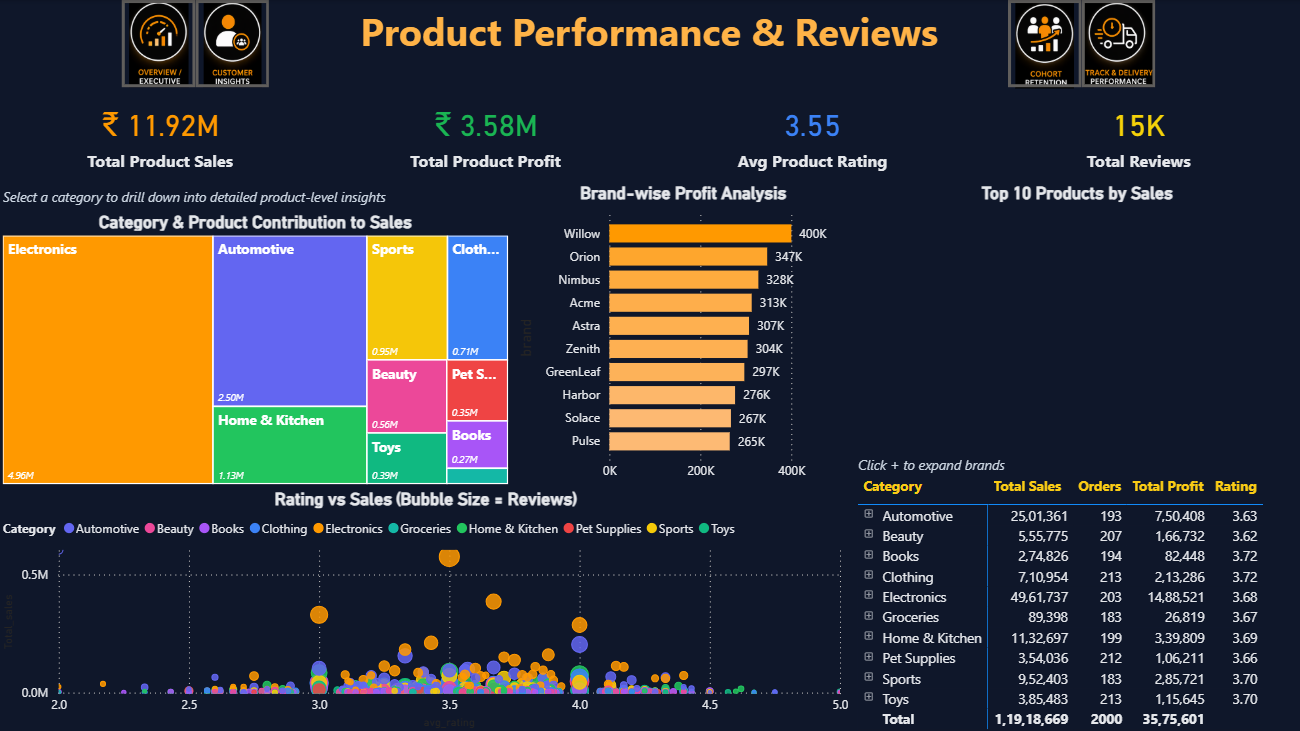

This screenshot's page, from the dashboard's own definition file:
{"tool":"powerbi","page":{"name":"PRODUCT INSIGHTS","canvas":[1280,720],"ordinal":2},"visuals":[{"type":"textbox","box":[346.2,0,586.3,77.2],"z":0},{"type":"card","fields":{"Values":["All Measures Table.Total Product Sales"]},"box":[0,86.9,318.5,91.7],"z":1000},{"type":"card","fields":{"Values":["All Measures Table.Total Product Profit"]},"box":[318.5,86.9,319.7,91.7],"z":2000},{"type":"card","fields":{"Values":["All Measures Table.Avg Product Rating"]},"box":[639.4,86.9,320.9,91.7],"z":3000},{"type":"card","fields":{"Values":["All Measures Table.Total Reviews"]},"box":[959.1,86.9,320.9,91.7],"z":4000},{"type":"treemap","title":"Category & Product Contribution to Sales","fields":{"Group":["dim_product.category","dim_product.product_name"],"Values":["Sum(dim_product.total_sales)"]},"box":[0,207.5,505.5,272.7],"z":5000},{"type":"textbox","box":[0,178.6,505.5,29],"z":6000},{"type":"clusteredBarChart","title":"Brand-wise Profit Analysis","fields":{"Category":["dim_product.brand"],"Y":["Sum(dim_product.total_profit)"]},"box":[505.5,178.6,334.2,301.6],"z":7000},{"type":"scatterChart","title":"Rating vs Sales (Bubble Size = Reviews)","fields":{"Series":["dim_product.category"],"Size":["Sum(review_summary.total_reviews)"],"X":["review_summary.avg_rating"],"Y":["dim_product.total_sales"]},"box":[0,480.2,839.7,240.1],"z":8000},{"type":"pivotTable","fields":{"Rows":["dim_product.category","dim_product.brand"],"Values":["Sum(dim_product.total_sales)","CountNonNull(dim_product.total_quantity)","Sum(dim_product.total_profit)","Avg(dim_product.rating)"]},"box":[839.7,460.9,440.4,259.4],"z":9000},{"type":"textbox","box":[839.7,441.6,440.4,29],"z":10000},{"type":"lollipopChart50393786178B4137A75F3257CB590B96","title":"Top 10 Products by Sales ","fields":{"category":["dim_product.product_name"],"measure":["Sum(dim_product.total_sales)"],"sort":["Max(dim_product.total_sales)"],"tooltip":["Sum(dim_product.total_profit)","Avg(dim_product.rating)"]},"box":[839.7,178.6,440.4,263],"z":11000},{"type":"image","box":[121.9,0,72.4,85.7],"z":12000},{"type":"image","box":[194.2,0,72.4,85.7],"z":13000},{"type":"image","box":[991.7,1.2,72.4,85.7],"z":14000},{"type":"image","box":[1064.1,0,72,85.7],"z":15000},{"type":"actionButton","box":[121.9,0,72.4,85.7],"z":16000},{"type":"actionButton","box":[194.2,0,72.4,85.7],"z":17000},{"type":"actionButton","box":[1064.1,0,72.4,85.7],"z":18000},{"type":"actionButton","box":[991.7,0,72.4,85.7],"z":19000}]}

Visuals, with their boxes in screenshot pixels (x1, y1, x2, y2), scaled from the page's 1280x720 canvas onto the 1300x731 screenshot:
textbox: bbox=(352, 0, 947, 78)
card - All Measures Table.Total Product Sales: bbox=(0, 88, 323, 181)
card - All Measures Table.Total Product Profit: bbox=(323, 88, 648, 181)
card - All Measures Table.Avg Product Rating: bbox=(649, 88, 975, 181)
card - All Measures Table.Total Reviews: bbox=(974, 88, 1299, 181)
"Category & Product Contribution to Sales" treemap: bbox=(0, 211, 513, 488)
textbox: bbox=(0, 181, 513, 211)
"Brand-wise Profit Analysis" clusteredBarChart: bbox=(513, 181, 853, 488)
"Rating vs Sales (Bubble Size = Reviews)" scatterChart: bbox=(0, 488, 853, 730)
pivotTable - dim_product.category x dim_product.brand: bbox=(853, 468, 1299, 730)
textbox: bbox=(853, 448, 1299, 478)
"Top 10 Products by Sales " lollipopChart50393786178B4137A75F3257CB590B96: bbox=(853, 181, 1299, 448)
image: bbox=(124, 0, 197, 87)
image: bbox=(197, 0, 271, 87)
image: bbox=(1007, 1, 1081, 88)
image: bbox=(1081, 0, 1154, 87)
actionButton: bbox=(124, 0, 197, 87)
actionButton: bbox=(197, 0, 271, 87)
actionButton: bbox=(1081, 0, 1154, 87)
actionButton: bbox=(1007, 0, 1081, 87)
